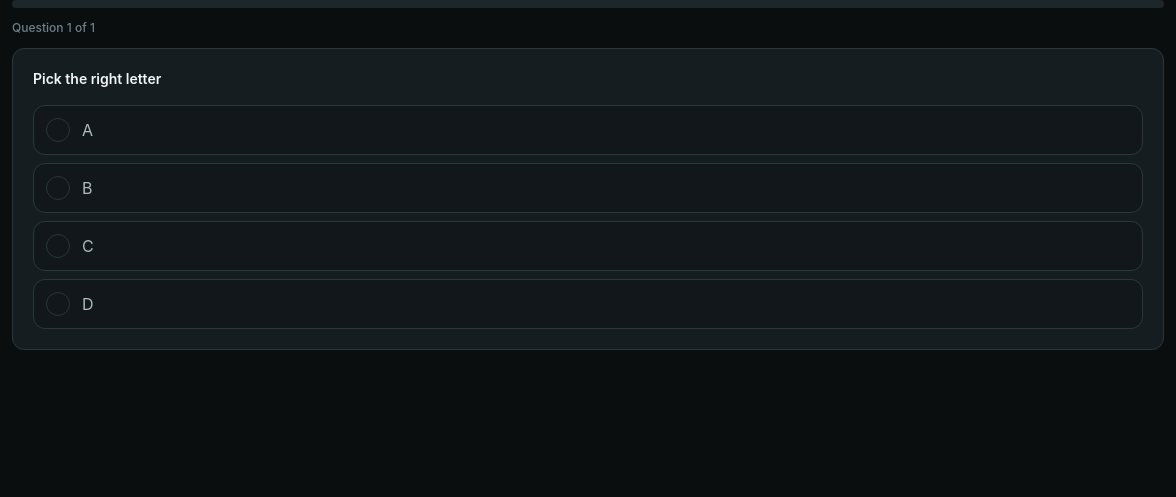
Test case: QuizPlayer answer randomization › keeps the original order when the shuffle is identity
Click the button "B".
click(58, 188)  # box top-left (33, 163), bottom-right (1143, 213)
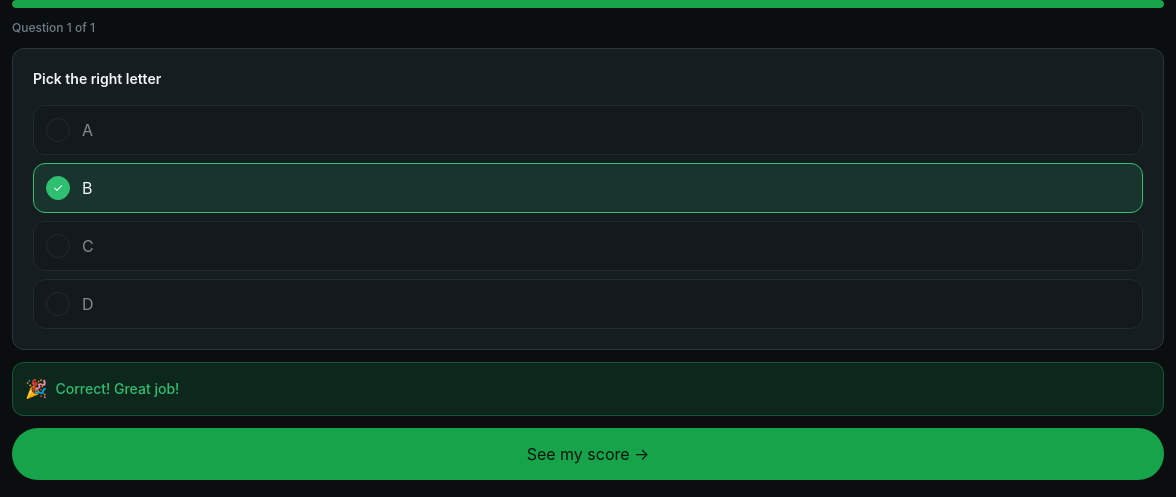
Expected: the text "Correct! Great job!" is shown, top-left (56, 379), bottom-right (179, 399)
